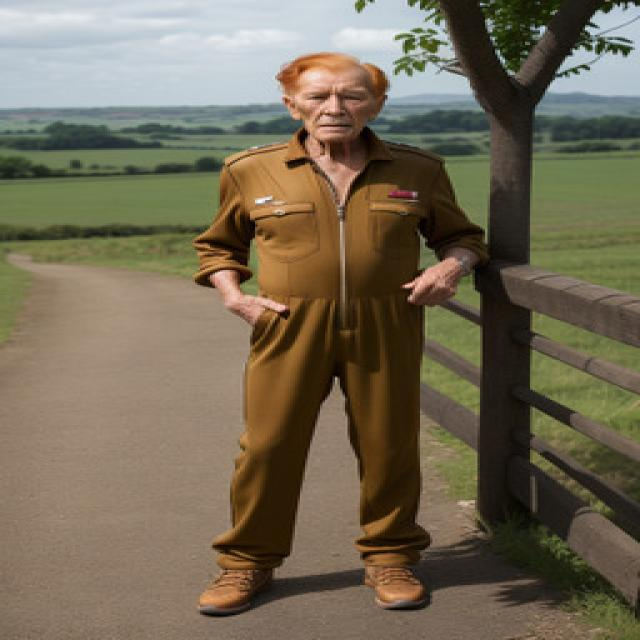Ai human 2: (173, 40, 520, 622)
